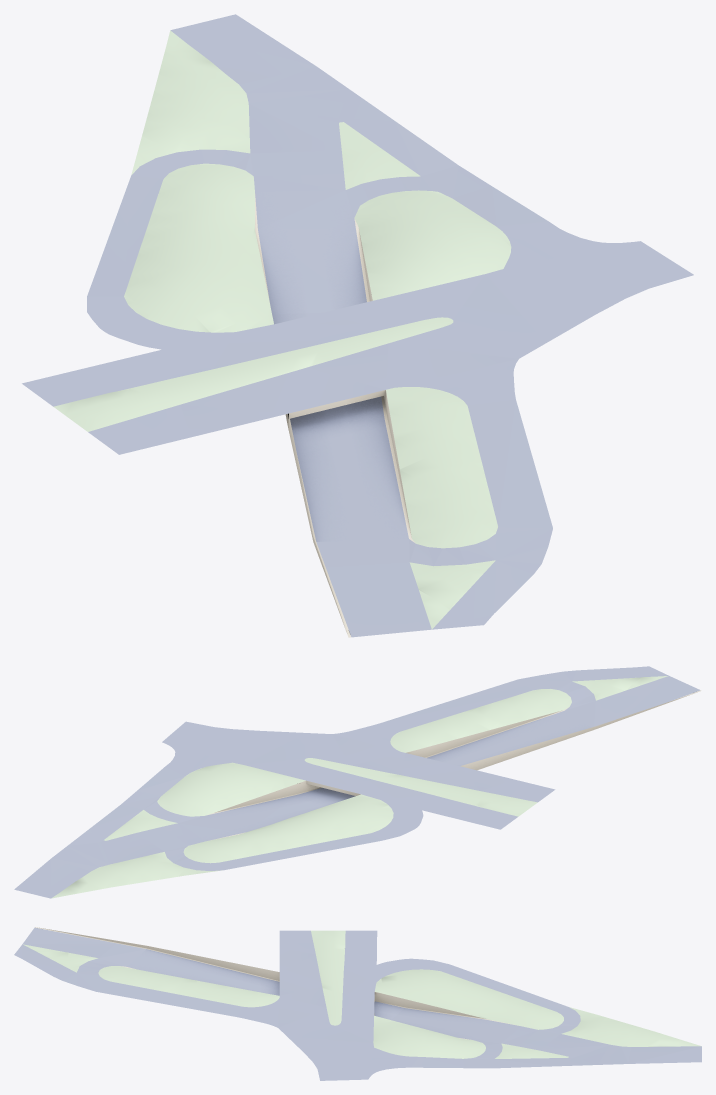
File: ABAY-SATPAEV-colored.glb
3 renders of one model, top to bottom at view 1: azimuth 30°, elevation 25°; view 2: azimuth 150°, elevation 25°; view 3: azimuth 270°, elevation 25°, orthographic. The views are drawn at different scales.
Parts seen in each view (by area): view 1: group_1, group_4, group_8, group_6, group_3, group_7, group_0, group_9, group_5; view 2: group_1, group_4, group_6, group_8, group_0, group_7, group_3, group_9, group_5; view 3: group_1, group_4, group_8, group_6, group_3, group_7, group_0, group_9, group_5.
Boxes of the visible parts, left/top/right/bottom form: group_1: left=22, top=14, right=693, bottom=637; group_4: left=124, top=163, right=273, bottom=332; group_8: left=386, top=387, right=497, bottom=548; group_6: left=354, top=190, right=511, bottom=300; group_3: left=131, top=30, right=250, bottom=174; group_7: left=53, top=317, right=453, bottom=431; group_0: left=255, top=194, right=415, bottom=637; group_9: left=409, top=560, right=495, bottom=628; group_5: left=339, top=122, right=420, bottom=189; group_1: left=14, top=666, right=700, bottom=898; group_4: left=183, top=794, right=393, bottom=863; group_6: left=157, top=762, right=305, bottom=816; group_8: left=390, top=689, right=571, bottom=752; group_0: left=207, top=690, right=701, bottom=839; group_7: left=304, top=758, right=537, bottom=816; group_3: left=51, top=852, right=221, bottom=898; group_9: left=572, top=676, right=667, bottom=700; group_5: left=104, top=810, right=177, bottom=840; group_1: left=14, top=927, right=701, bottom=1080; group_4: left=374, top=969, right=563, bottom=1029; group_8: left=98, top=966, right=279, bottom=1007; group_6: left=373, top=1015, right=485, bottom=1058; group_3: left=561, top=1007, right=701, bottom=1046; group_7: left=311, top=930, right=345, bottom=1025; group_0: left=35, top=927, right=517, bottom=1039; group_9: left=23, top=944, right=97, bottom=972; group_5: left=495, top=1043, right=568, bottom=1058.
Bounding box in the file's own units: 176 × 8.33 × 333.
Materials: 3 (2 with a texture image).
